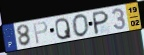3: (111, 7, 127, 32)
8: (16, 24, 32, 47)
O: (72, 13, 91, 38)
P: (92, 9, 110, 35), (33, 20, 50, 45)
Q: (54, 17, 73, 41)
